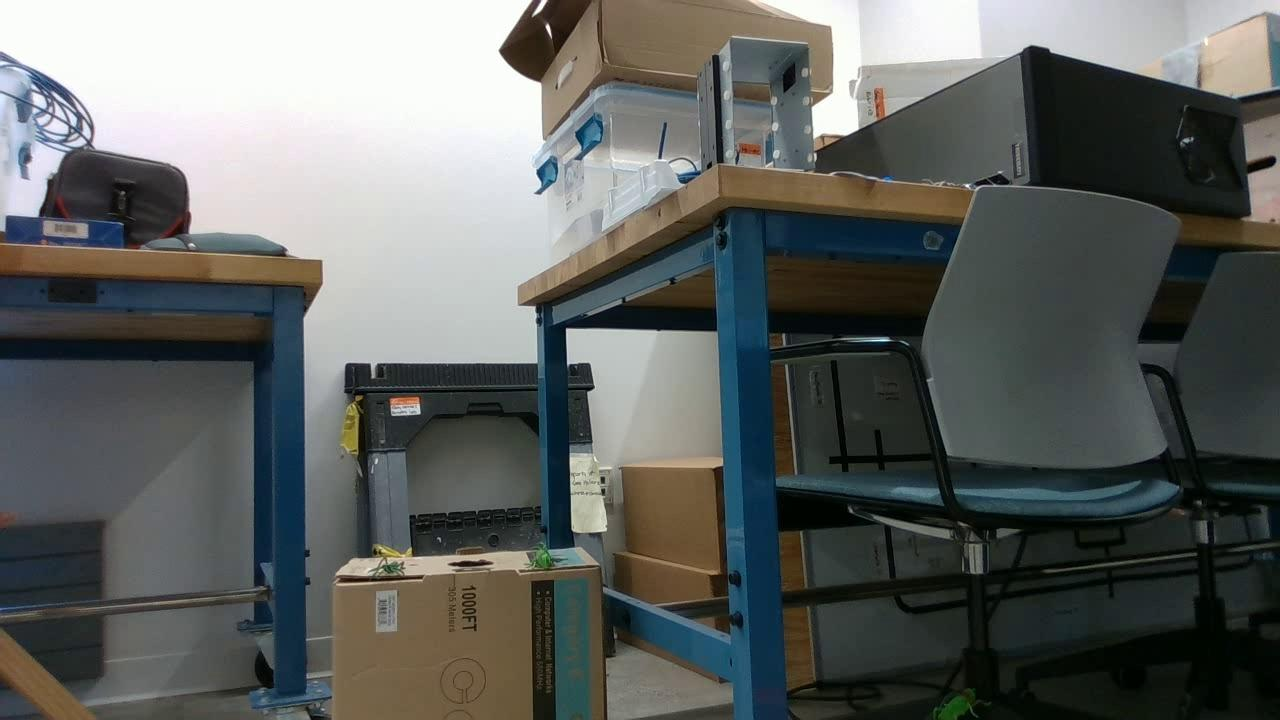grasshopper: (933, 686, 979, 720), (522, 545, 563, 566)
